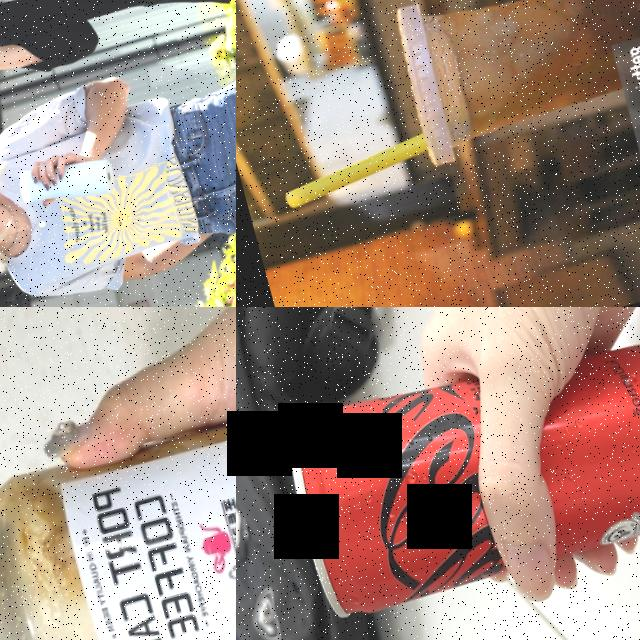can: (272, 308, 640, 629), (0, 356, 236, 640)
cup: (383, 0, 640, 167)
